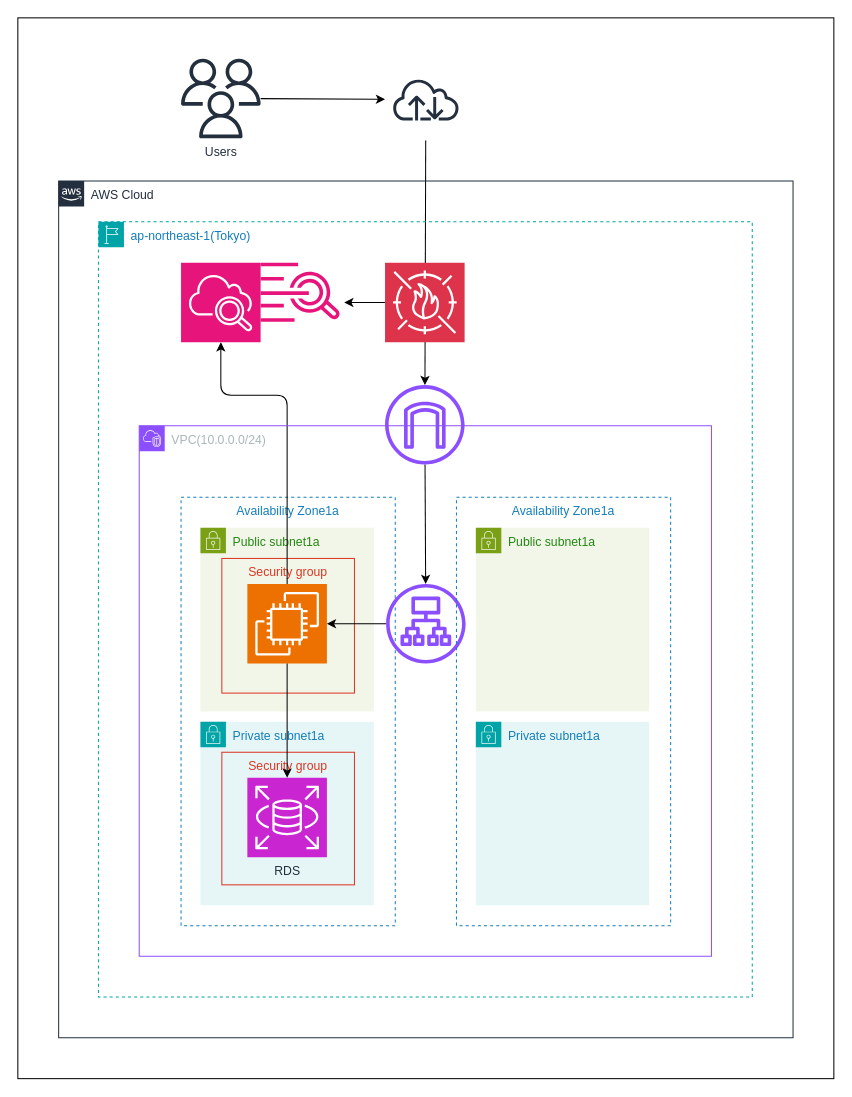
Some shapes in this 852 by 1097 pixel diagram are drawn without their labels. The centre of each missing label's shape, as x and y in pixels:
"ALB" goes at (x=425, y=623).
"CloudWatch" goes at (x=220, y=302).
"CloudWatch Logs" goes at (x=300, y=291).
"EC2" goes at (x=286, y=623).
"Internet" goes at (x=425, y=99).
"Internet Gateway" goes at (x=424, y=424).
"WAF" goes at (x=424, y=302).
